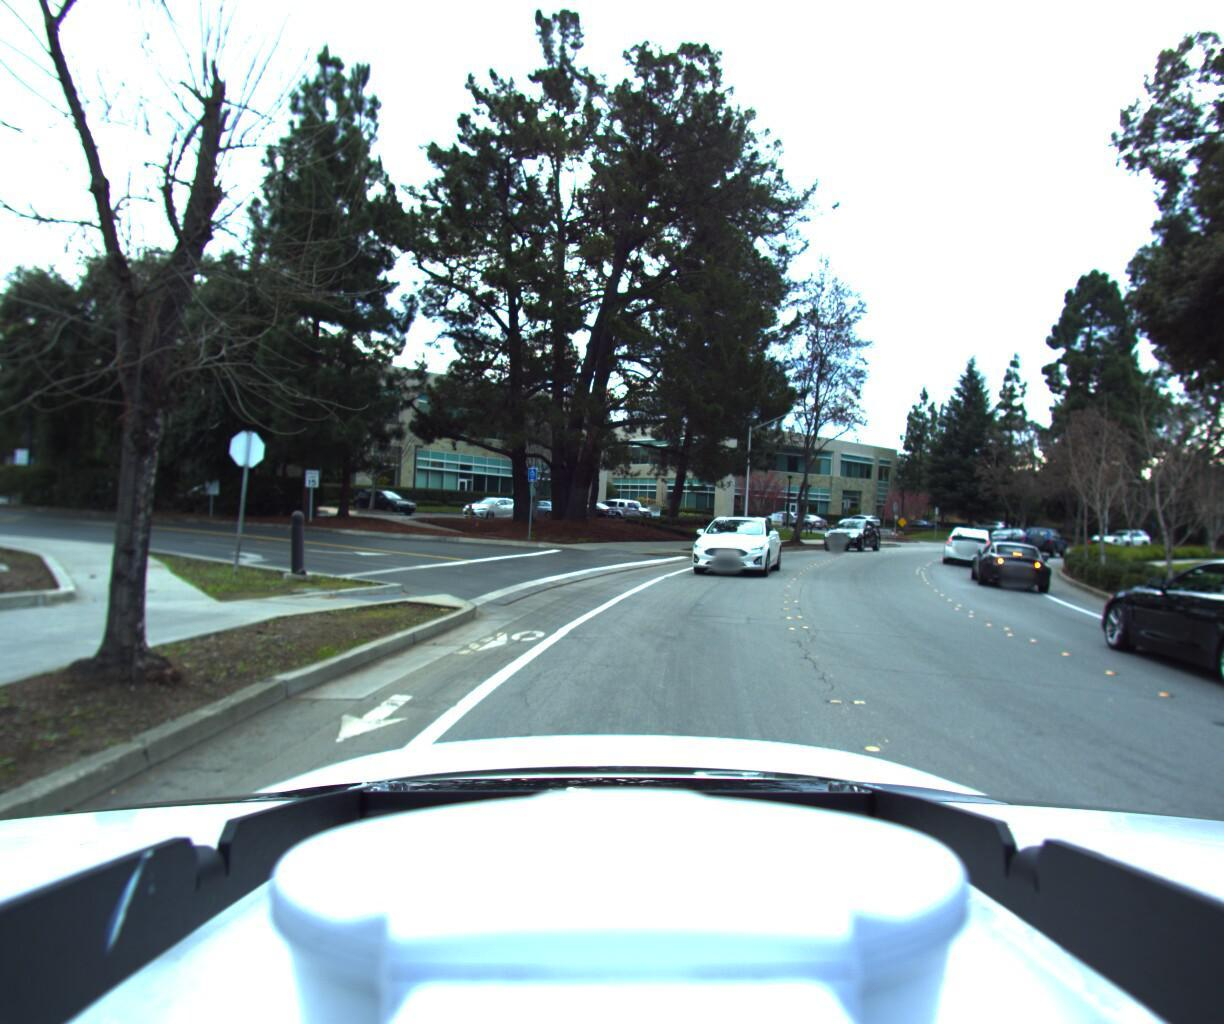car: (1073, 537, 1224, 712), (675, 506, 779, 579), (970, 527, 1056, 587), (938, 523, 1001, 567), (810, 513, 876, 548), (1022, 518, 1078, 551), (974, 515, 1026, 542)
